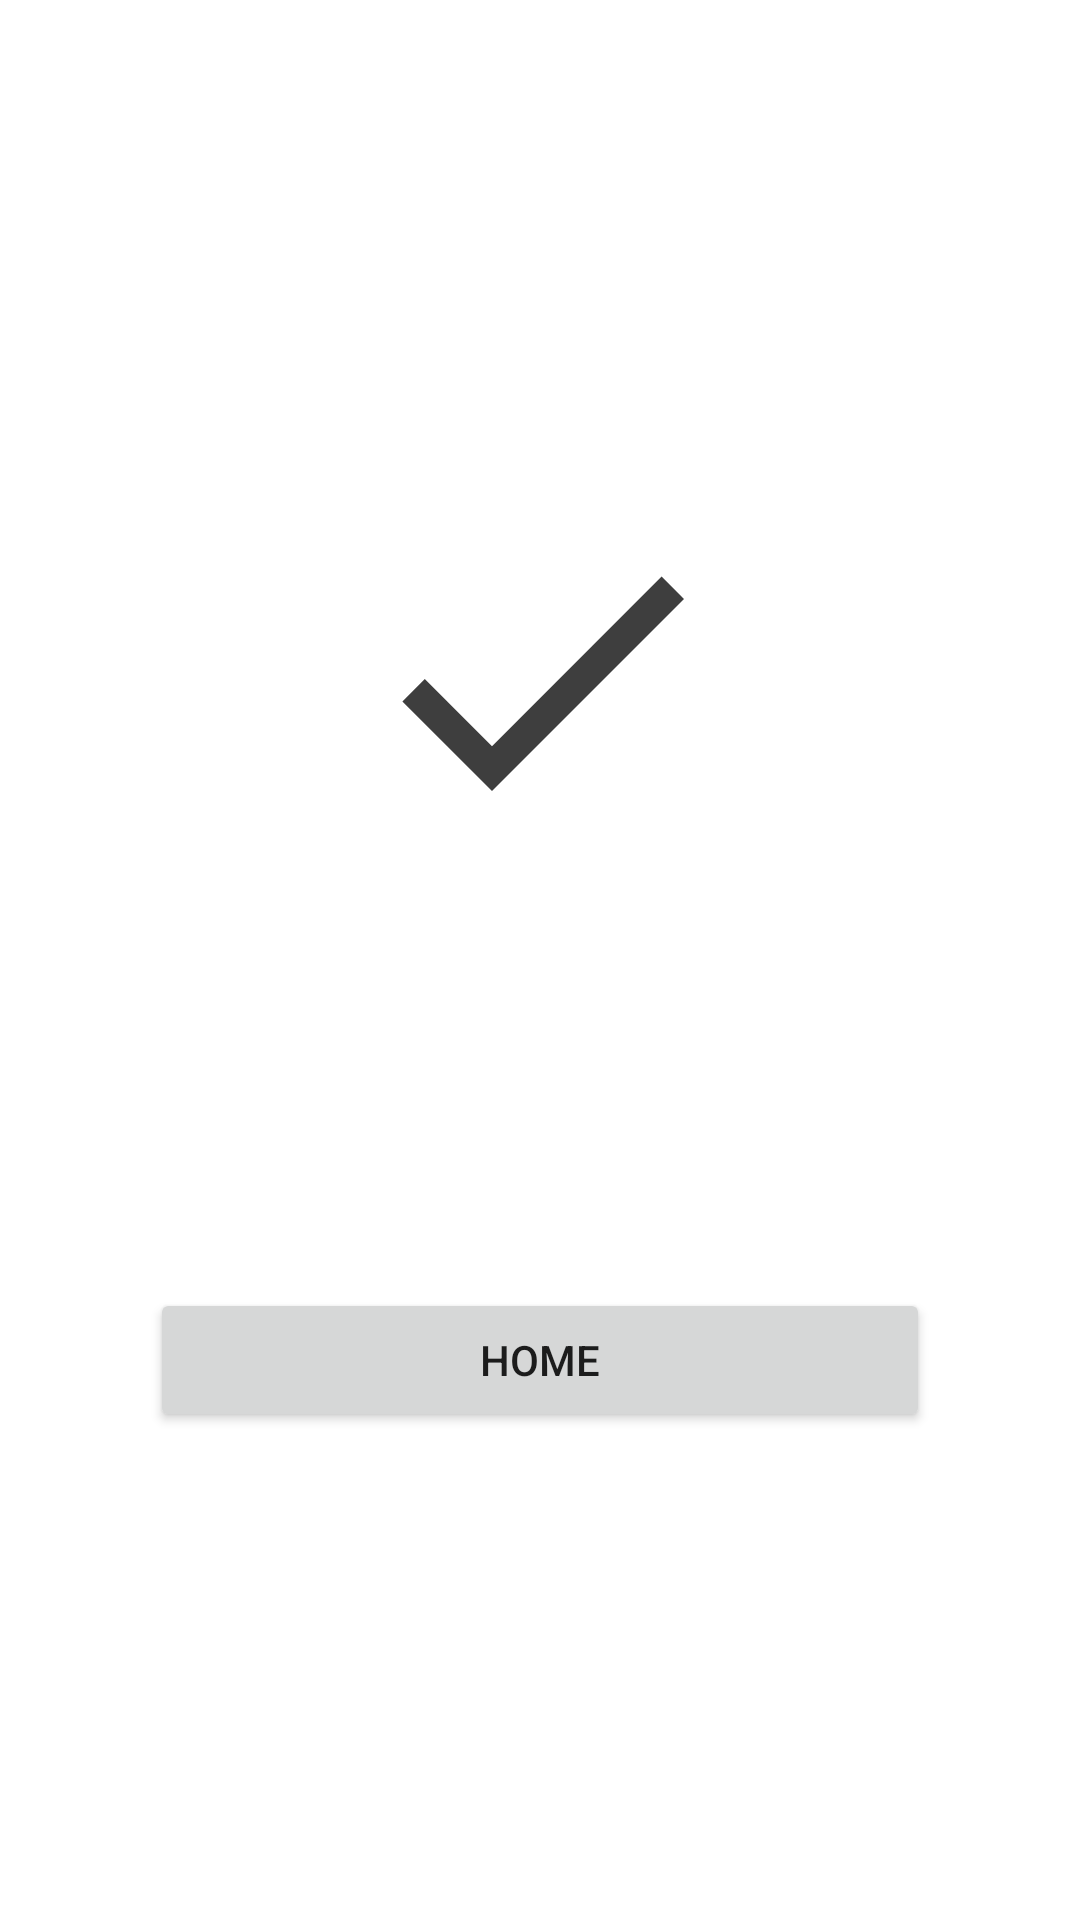

Screen size 1080 × 1920. Icon name, then its center in pixels as [x,y]:
done: [543,683]
